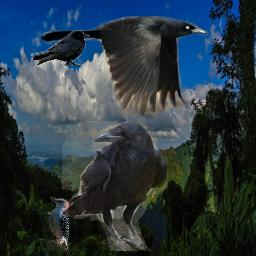Crow: (40, 14, 210, 116), (62, 121, 168, 251), (31, 30, 90, 66)
Woodpecker: (46, 196, 69, 255)
